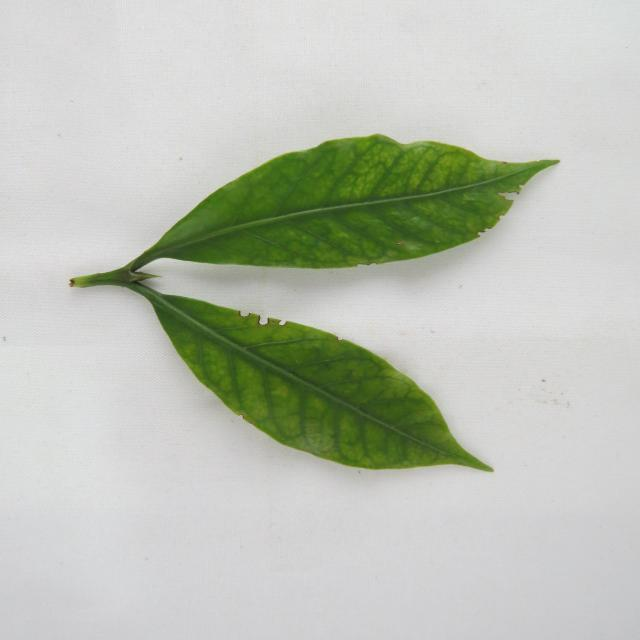DeficienciaNutricional-Manganeso: (70, 135, 557, 471)
